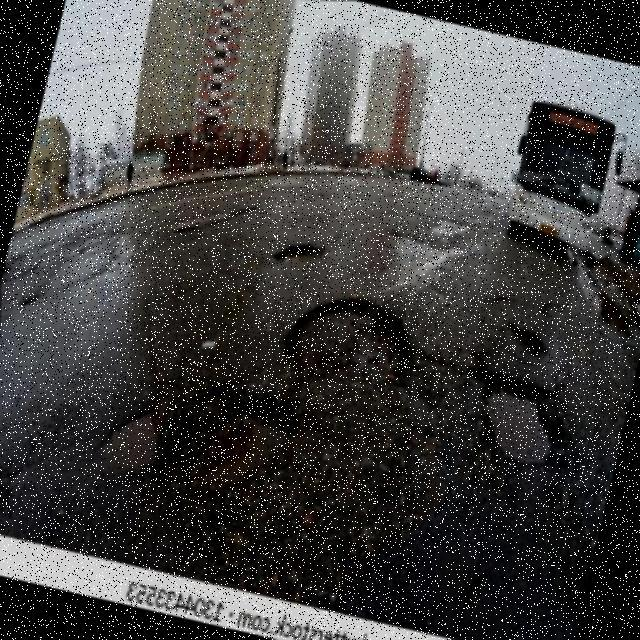Pothole: (283, 297, 407, 385), (190, 400, 298, 493), (478, 372, 565, 467), (270, 243, 325, 263)
